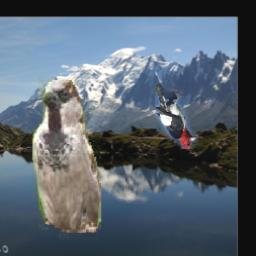Sparrow: (32, 73, 101, 244)
Woodpecker: (154, 85, 197, 150)
